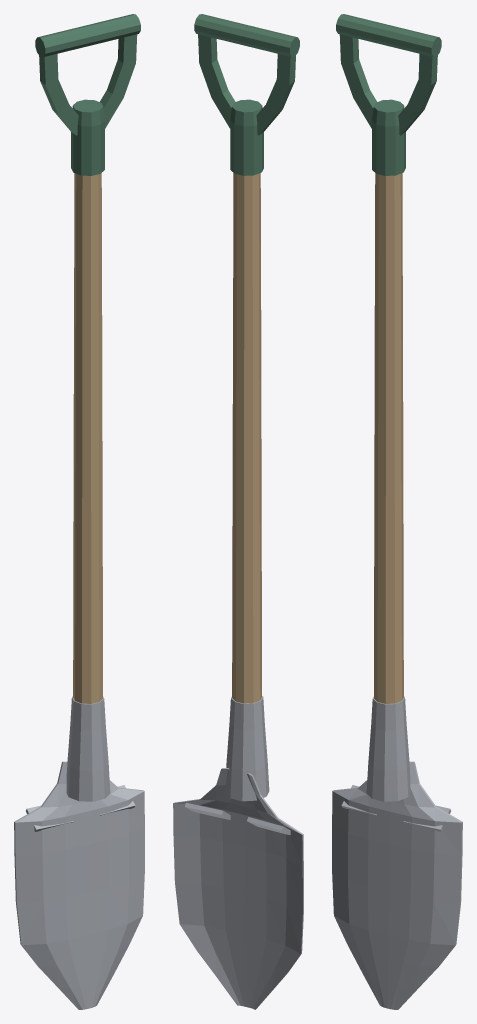
The model's file is shovel.glb.
3 renders of one model, left to right at view 1: azimuth 30°, elevation 25°; view 2: azimuth 150°, elevation 25°; view 3: azimuth 330°, elevation 25°, orthographic.
Visible parts, largest first — view 1: ShovelWeb; view 2: ShovelWeb; view 3: ShovelWeb.
Boxes of the visible parts, x1,y1,x2,y2 form: ShovelWeb: (14,14,144,1009); ShovelWeb: (173,14,303,1009); ShovelWeb: (332,14,462,1009).
Size of the model in its own units: 0.2 by 1.45 by 0.0655.
1 material, 1 textured.
